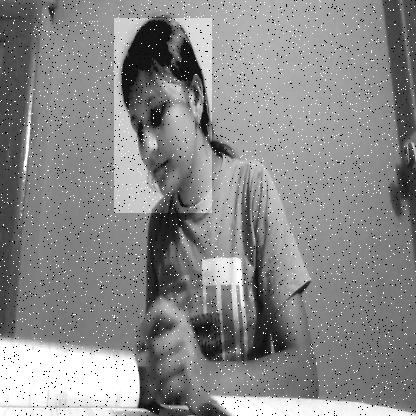Distracted: (113, 18, 212, 213)
